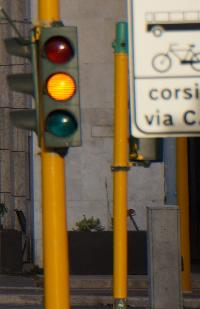yellow_light: (40, 26, 82, 146)
